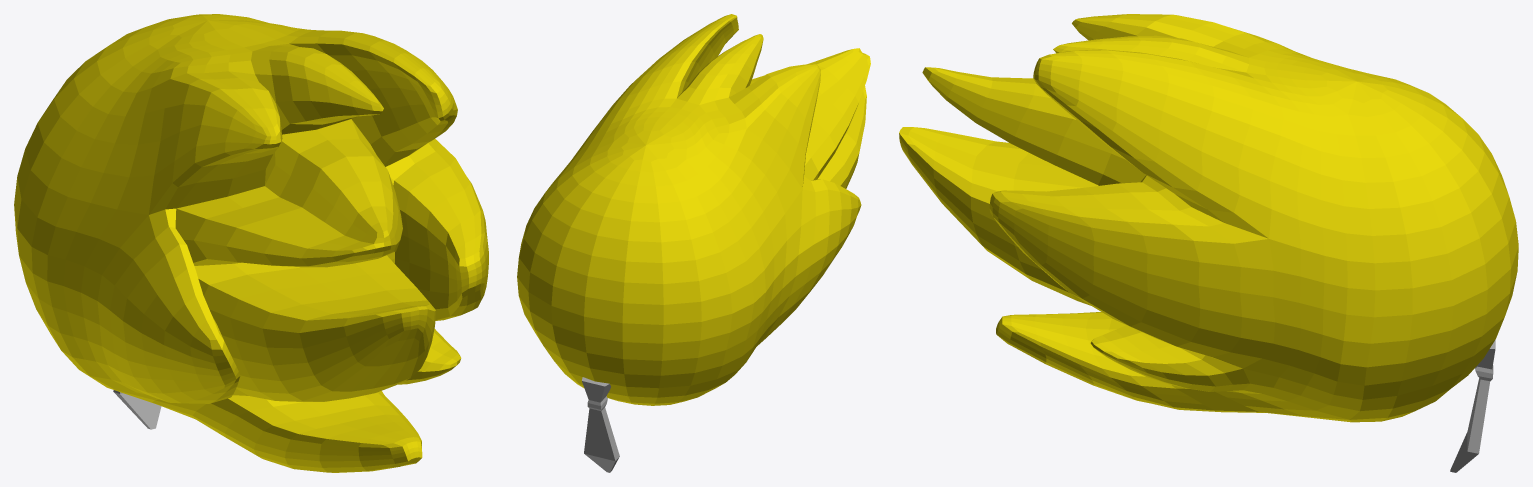
The model's file is FlameBoy_3.fbx.
3 renders of one model, left to right at view 1: azimuth 30°, elevation 25°; view 2: azimuth 150°, elevation 25°; view 3: azimuth 270°, elevation 25°, orthographic. The views are drawn at different scales.
Parts seen in each view (by area): view 1: InsideBall; view 2: InsideBall; view 3: InsideBall.
Boxes of the visible parts, box(x1,y1,x2,y2) form: InsideBall: box(14, 14, 488, 472); InsideBall: box(517, 14, 870, 472); InsideBall: box(899, 14, 1518, 472).
Size of the model in its own units: 2.35 by 3.26 by 4.16.
